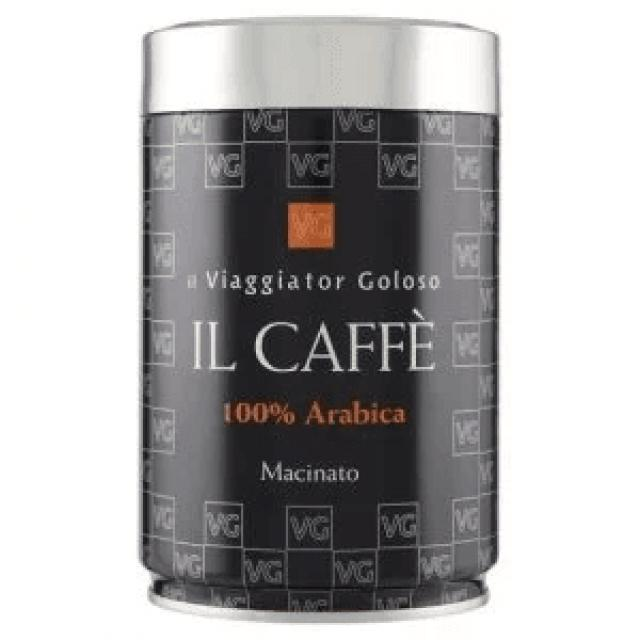coffee: (137, 19, 501, 617)
